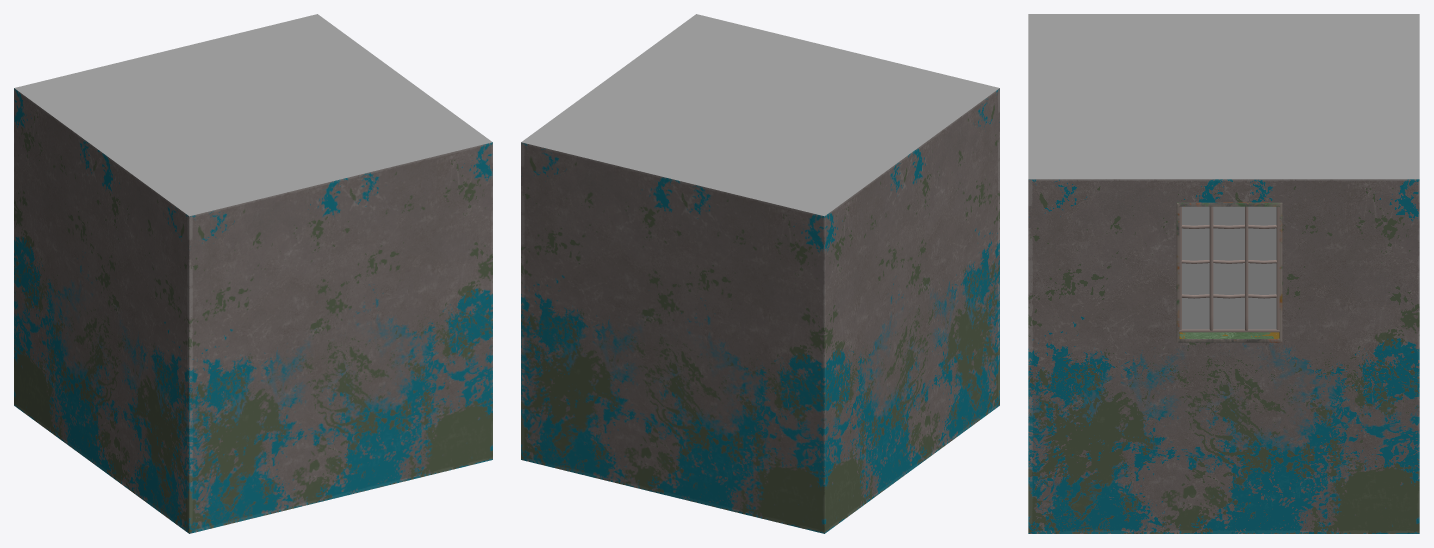
The model's file is SM_SlumHouseWindowsSingle_01.fbx.
3 renders of one model, left to right at view 1: azimuth 30°, elevation 25°; view 2: azimuth 150°, elevation 25°; view 3: azimuth 270°, elevation 25°, orthographic. The views are drawn at different scales.
Visible parts, largest first — view 1: slumhouse; view 2: slumhouse; view 3: slumhouse.
Boxes of the visible parts, <box> form: slumhouse: <box>14,14,492,533</box>; slumhouse: <box>521,14,999,533</box>; slumhouse: <box>1028,14,1419,533</box>.
Bounding box in the file's own units: 501 × 500 × 500.
